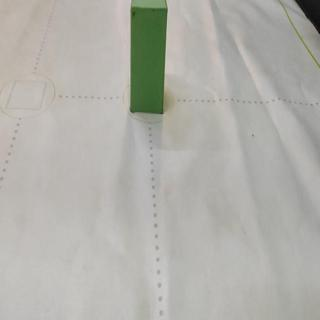greenbox: (129, 0, 169, 115)
